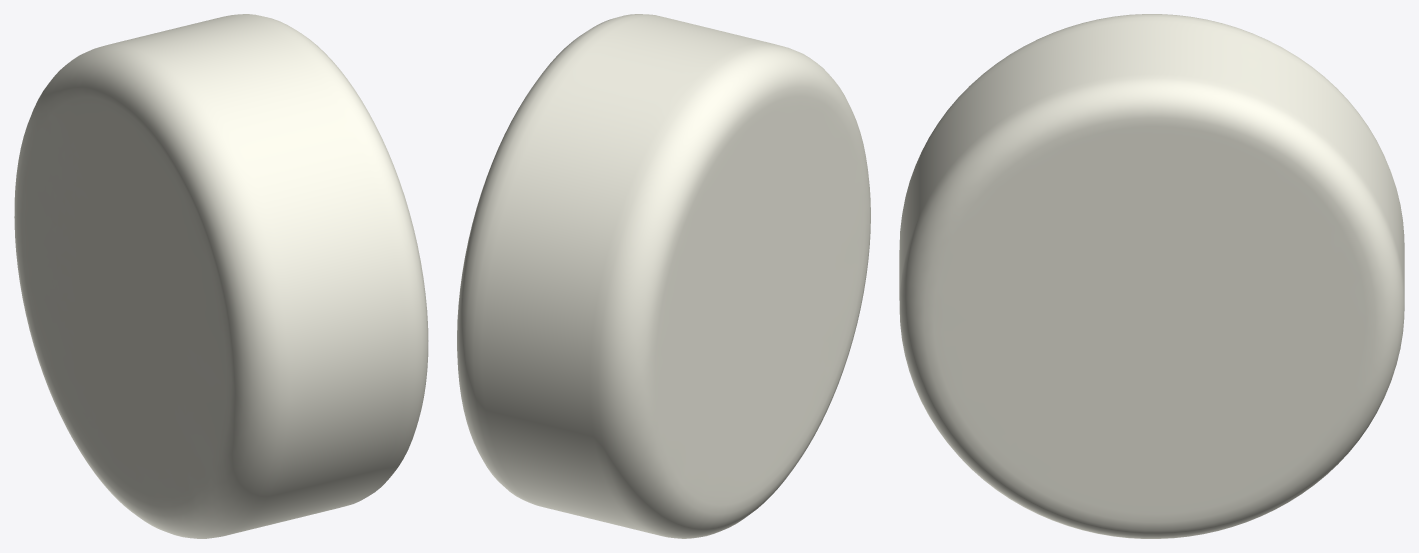
The model's file is Round_Pill_Individual_Beige.glb.
The picture shows the model from 3 angles, left to right: view 1: azimuth 30°, elevation 25°; view 2: azimuth 150°, elevation 25°; view 3: azimuth 270°, elevation 25°; orthographic projection.
Parts seen in each view (by area): view 1: Round_Pill.008; view 2: Round_Pill.008; view 3: Round_Pill.008.
Boxes of the visible parts, <box> form: Round_Pill.008: <box>14,14,428,538</box>; Round_Pill.008: <box>457,14,870,538</box>; Round_Pill.008: <box>899,14,1404,538</box>.
Bounding box in the file's own units: 0.5814 × 1.35 × 1.35.
1 material, 1 textured.
